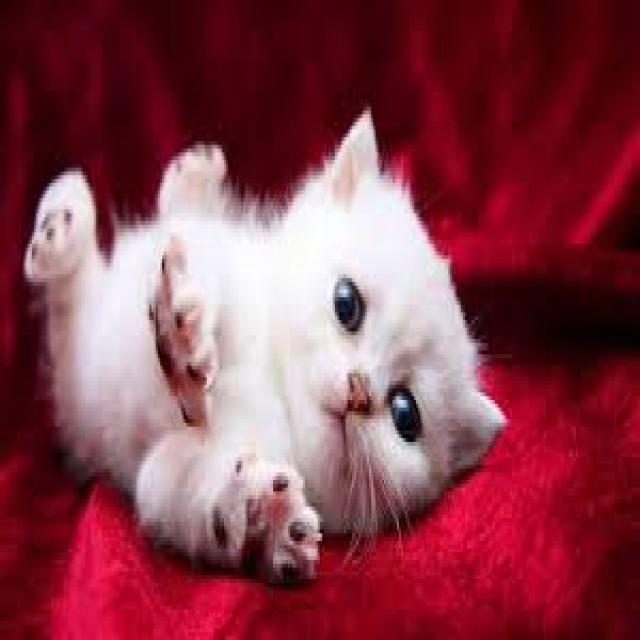Cat: (23, 104, 509, 590)
